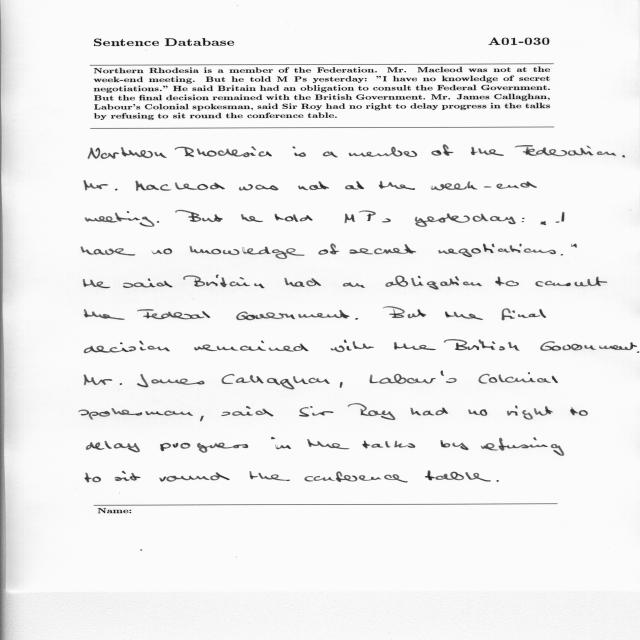word: (438, 244, 556, 258), (222, 374, 330, 389), (190, 245, 305, 259), (481, 437, 564, 456), (385, 275, 482, 290), (415, 213, 516, 227), (79, 408, 193, 420), (194, 341, 309, 352), (369, 371, 457, 384), (304, 472, 408, 483), (236, 310, 350, 320), (515, 145, 616, 156), (86, 211, 155, 227), (175, 147, 272, 158), (183, 275, 265, 288), (84, 341, 170, 353), (135, 180, 225, 191), (540, 341, 637, 351), (160, 442, 248, 453), (431, 182, 537, 191), (479, 372, 558, 384), (137, 374, 205, 387), (88, 147, 167, 158), (444, 340, 520, 351), (137, 309, 210, 320), (348, 404, 396, 420), (425, 471, 491, 482), (536, 277, 608, 287), (159, 472, 230, 482), (507, 405, 553, 420), (349, 147, 417, 157), (349, 244, 416, 254), (345, 210, 391, 223), (86, 441, 140, 452), (175, 210, 223, 222), (81, 246, 135, 256), (501, 309, 546, 321), (222, 406, 274, 416), (331, 340, 374, 352), (123, 278, 173, 288), (383, 307, 427, 318), (84, 309, 125, 320), (307, 439, 350, 449), (363, 441, 416, 449), (84, 375, 122, 386), (249, 471, 290, 481), (299, 406, 334, 417), (84, 180, 117, 191), (445, 311, 483, 320), (394, 342, 436, 350), (379, 181, 415, 190), (285, 278, 321, 287), (275, 214, 313, 222), (471, 147, 504, 156), (411, 408, 448, 416), (441, 440, 469, 450), (298, 181, 329, 190), (239, 184, 278, 191), (115, 471, 141, 481), (319, 243, 340, 255), (84, 279, 111, 288), (432, 145, 454, 156), (495, 277, 519, 287), (271, 437, 291, 449), (241, 214, 263, 222), (345, 181, 364, 190), (570, 407, 588, 416), (85, 473, 101, 483), (292, 146, 306, 157), (468, 409, 487, 416), (343, 282, 365, 288), (152, 248, 172, 254), (556, 212, 565, 223), (323, 152, 338, 158), (571, 244, 577, 248), (541, 221, 546, 225), (200, 416, 204, 421), (340, 382, 343, 388), (522, 218, 525, 222), (622, 155, 625, 158), (560, 254, 563, 256), (355, 318, 358, 320), (637, 351, 640, 353), (496, 480, 499, 482), (157, 221, 159, 223)
